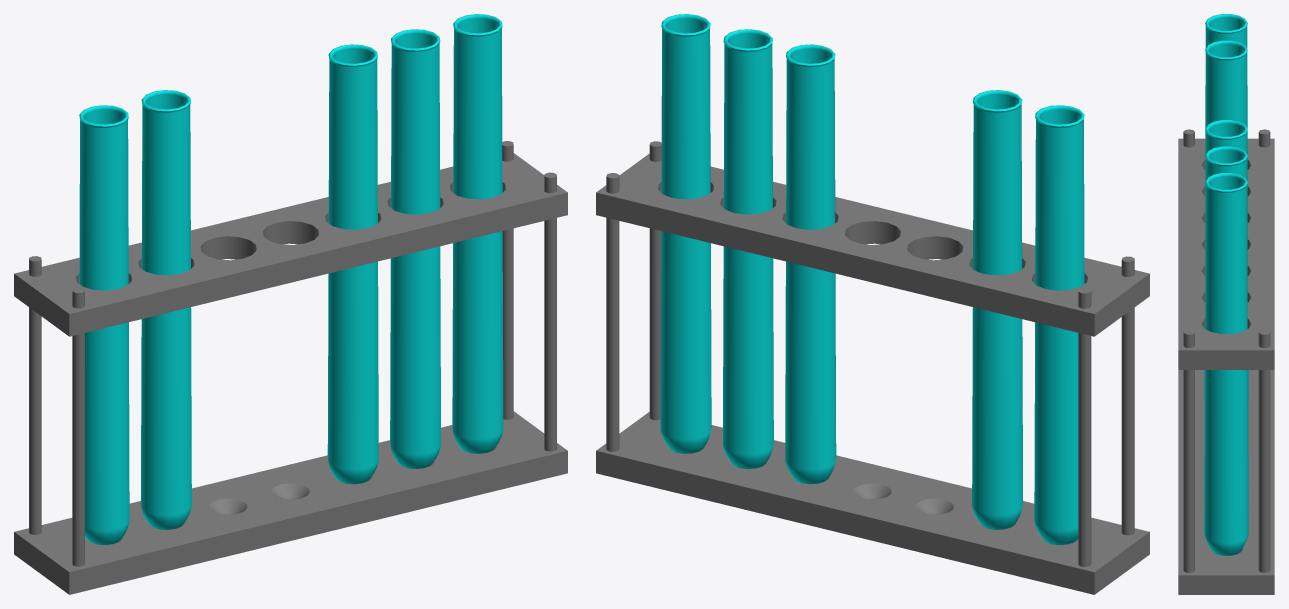
The model's file is SM_Test tube rack2.fbx.
3 renders of one model, left to right at view 1: azimuth 30°, elevation 25°; view 2: azimuth 150°, elevation 25°; view 3: azimuth 270°, elevation 25°, orthographic. The views are drawn at different scales.
Visible parts, largest first — view 1: Test_tube_rack2; view 2: Test_tube_rack2; view 3: Test_tube_rack2.
Part boxes in pixels (box(x1,y1,x2,y2)): Test_tube_rack2: box(14, 14, 567, 594); Test_tube_rack2: box(596, 14, 1149, 594); Test_tube_rack2: box(1178, 14, 1274, 594).
Size of what is drawn, in the model's own units: 18.15 by 15.47 by 3.49.
